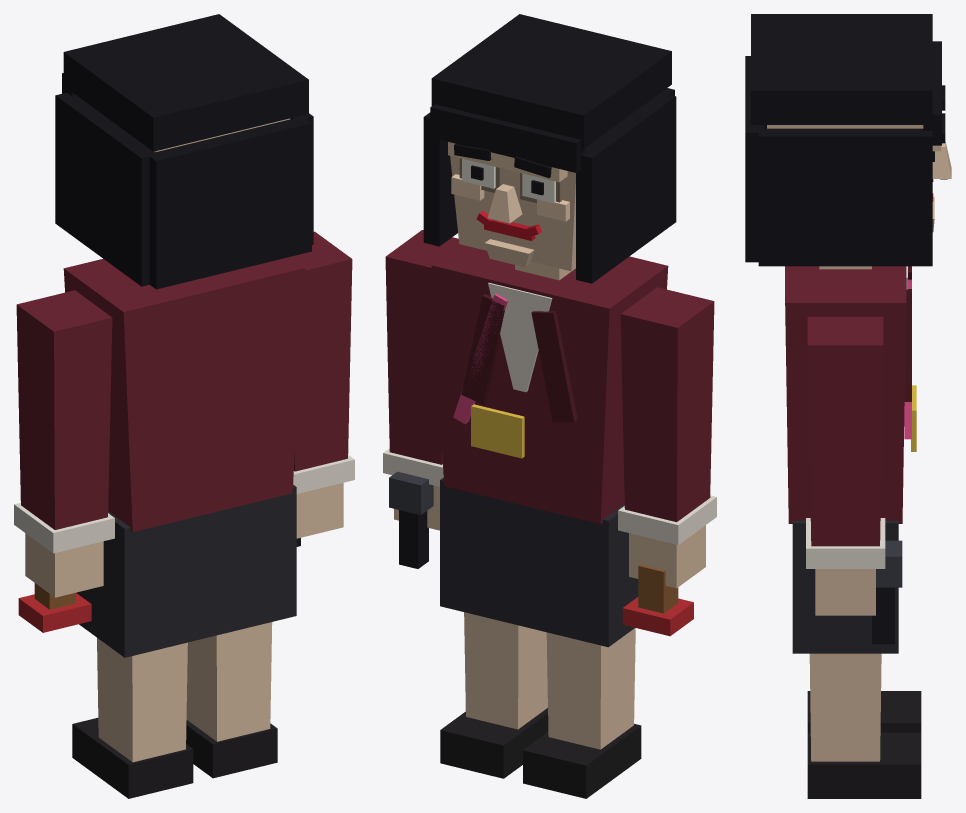
The picture shows the model from 3 angles, left to right: view 1: azimuth 30°, elevation 25°; view 2: azimuth 150°, elevation 25°; view 3: azimuth 270°, elevation 25°; orthographic projection. The views are drawn at different scales.
Parts seen in each view (by area): view 1: Head, Torso, ArmL, LegL, LegR, ArmR; view 2: Head, Torso, ArmL, LegL, LegR, ArmR; view 3: Head, ArmR, LegR, Torso, LegL.
Boxes of the visible parts, x1=… form: Head: x1=55, y1=14, x2=313, y2=289; Torso: x1=63, y1=257, x2=305, y2=531; ArmL: x1=14, y1=290, x2=114, y2=632; LegL: x1=72, y1=511, x2=212, y2=798; LegR: x1=186, y1=484, x2=296, y2=778; ArmR: x1=290, y1=231, x2=354, y2=546; Head: x1=423, y1=14, x2=676, y2=283; Torso: x1=431, y1=244, x2=668, y2=524; ArmL: x1=618, y1=287, x2=716, y2=636; LegL: x1=522, y1=504, x2=641, y2=798; LegR: x1=440, y1=477, x2=548, y2=778; ArmR: x1=383, y1=230, x2=459, y2=568; Head: x1=745, y1=14, x2=951, y2=266; ArmR: x1=806, y1=316, x2=902, y2=644; LegR: x1=792, y1=520, x2=921, y2=798; Torso: x1=785, y1=266, x2=916, y2=523; LegL: x1=807, y1=691, x2=921, y2=732.
Size of the model in its own units: 0.93 by 2.07 by 0.545.
